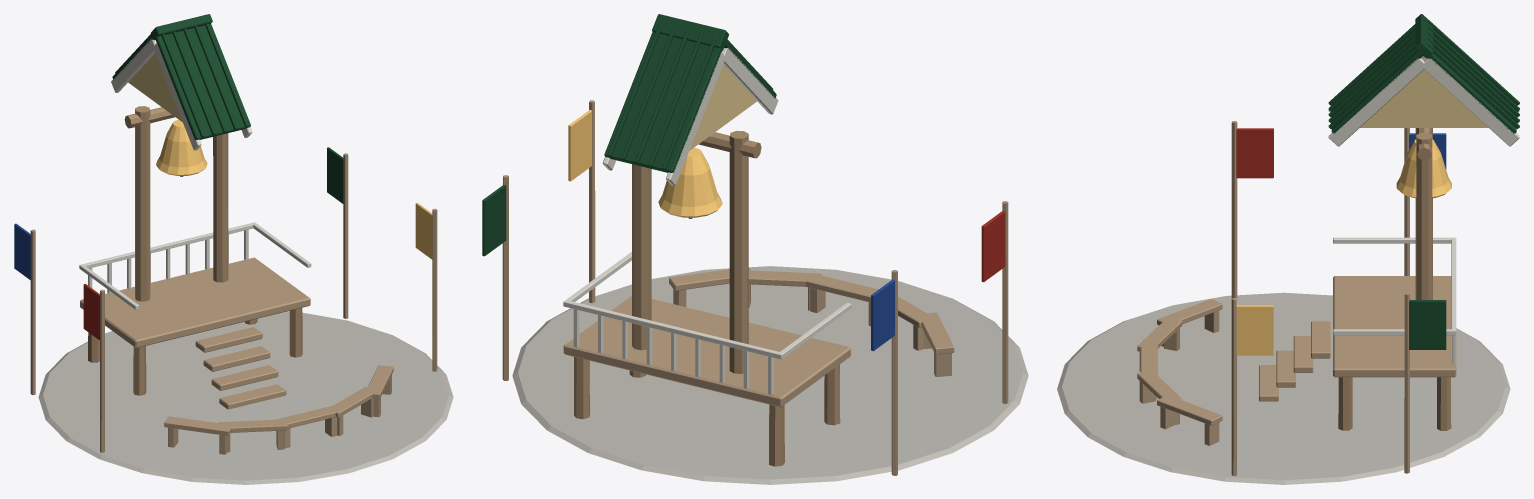
The model's file is bld_veche_e2.glb.
3 views of the same model, side by side, from view 1: azimuth 30°, elevation 25°; view 2: azimuth 150°, elevation 25°; view 3: azimuth 270°, elevation 25° (orthographic). The views are drawn at different scales.
Visible parts, largest first — view 1: veche; view 2: veche; view 3: veche.
Part boxes in pixels (box(x1,y1,x2,y2)): veche: box(14, 14, 453, 484); veche: box(482, 14, 1028, 484); veche: box(1057, 14, 1519, 484).
Bounding box in the file's own units: 1.84 × 1.62 × 1.88.
